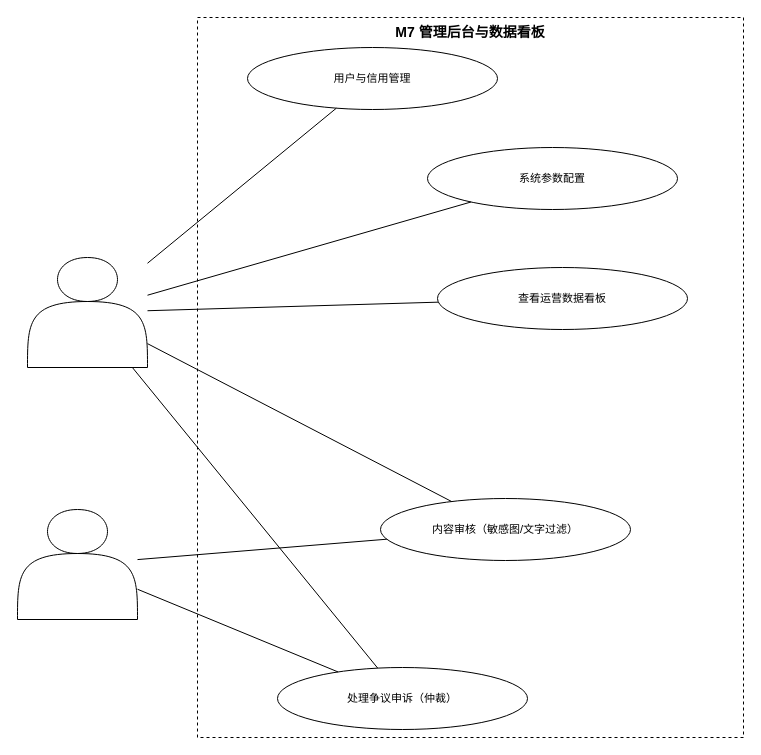
Image size: 761x755. Some labels were removed from this diagram. The shapes that lost their labels are listed below. From the top down, each one's centre as x and y in pixels, then its label:
the point at 87,312: 系统管理员
the point at 77,564: 审核员
